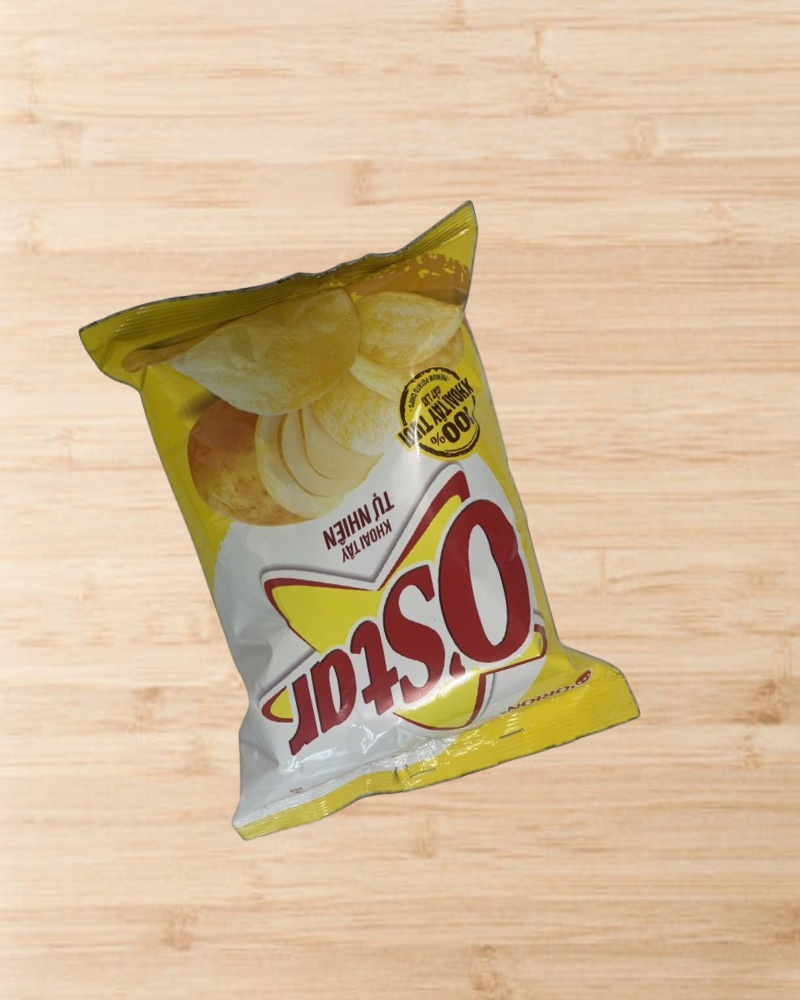Snack cua: (79, 199, 642, 841)
